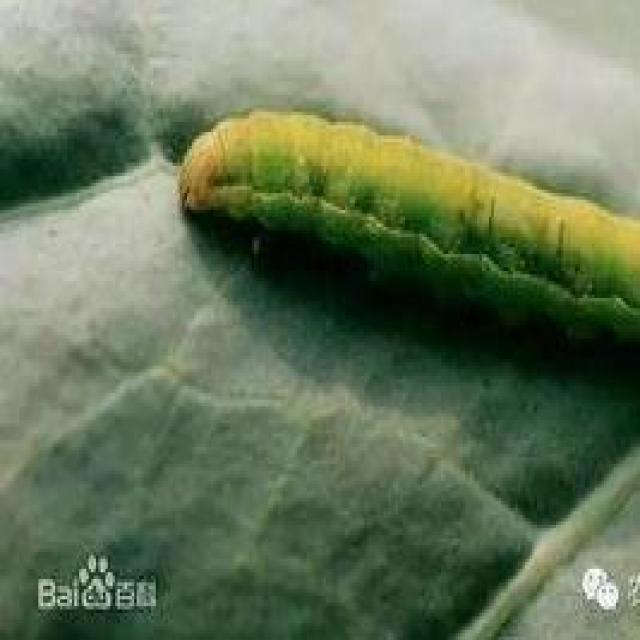BeetArmyWorm-Larva-: (176, 99, 637, 343)
